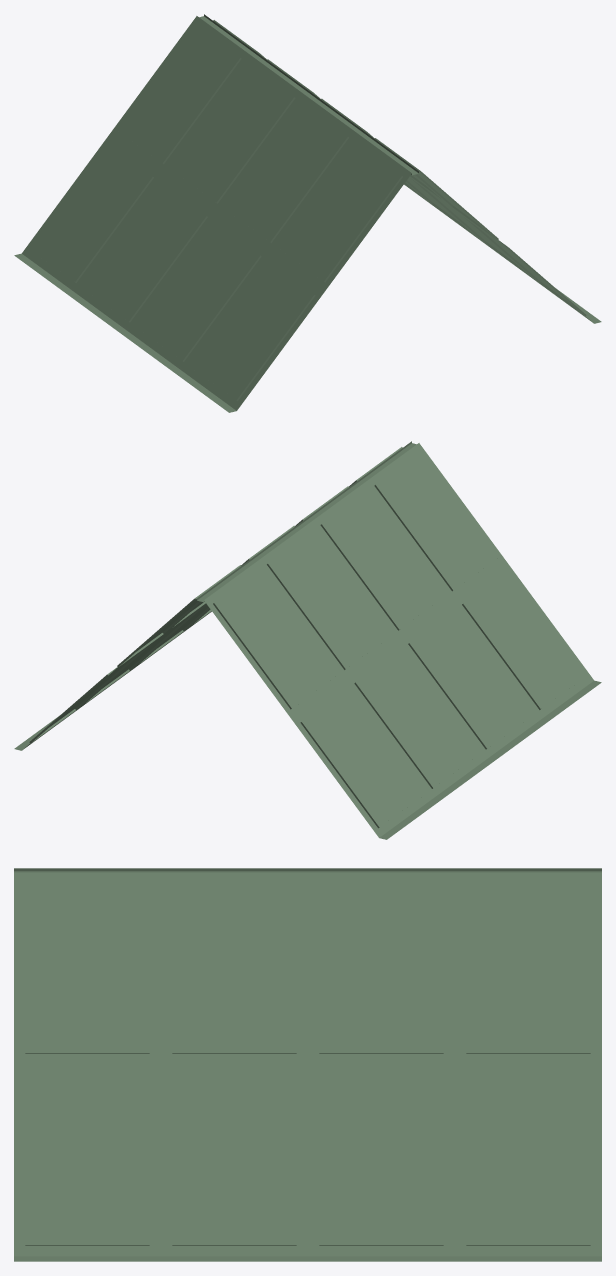
The model's file is Tile10_fix.fbx.
The picture shows the model from 3 angles, top to bottom: view 1: azimuth 30°, elevation 25°; view 2: azimuth 150°, elevation 25°; view 3: azimuth 270°, elevation 25°; orthographic projection. The views are drawn at different scales.
Visible parts, largest first — view 1: Tile10; view 2: Tile10; view 3: Tile10.
Boxes of the visible parts, left/top/right/bottom form: Tile10: left=14, top=14, right=601, bottom=412; Tile10: left=14, top=441, right=601, bottom=839; Tile10: left=14, top=868, right=601, bottom=1261.
Bounding box in the file's own units: 500 × 250 × 500.
